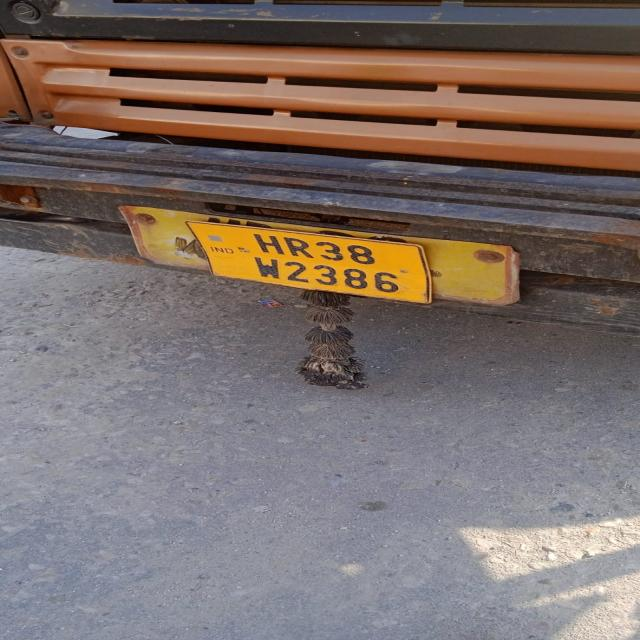License-plate: (188, 223, 424, 302)
